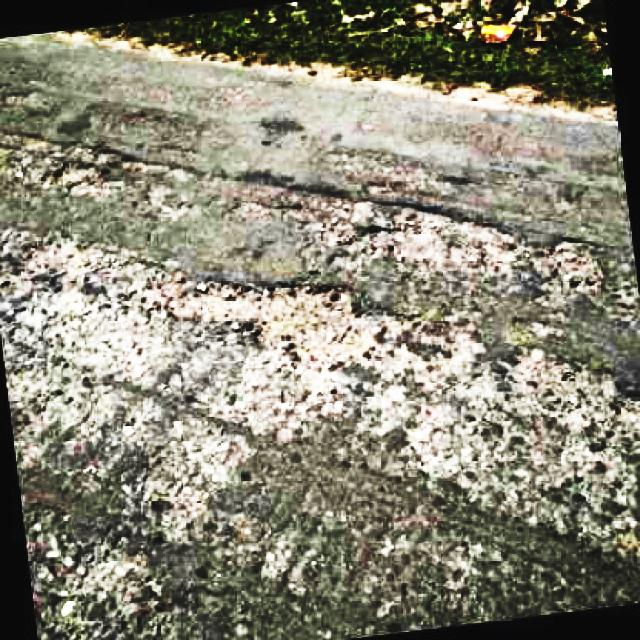pothole: (168, 269, 389, 382), (351, 186, 537, 291), (11, 135, 192, 211), (529, 346, 640, 439), (548, 231, 603, 303)
